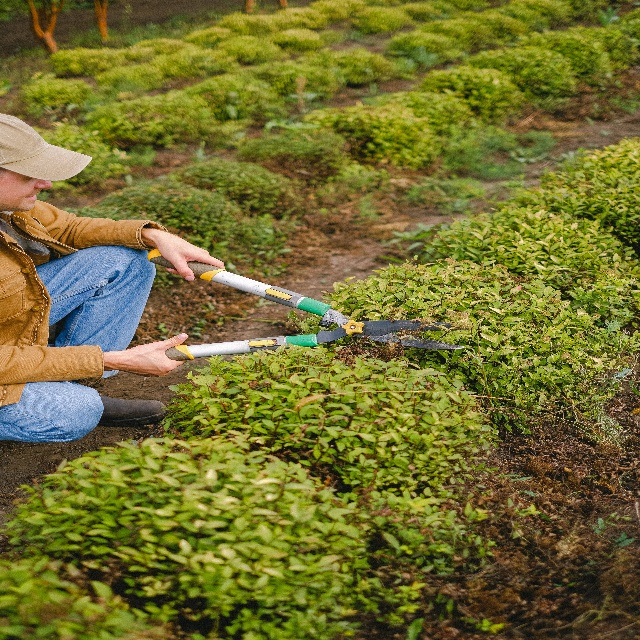Sin_guantes: (156, 226, 228, 284), (116, 333, 191, 379)
